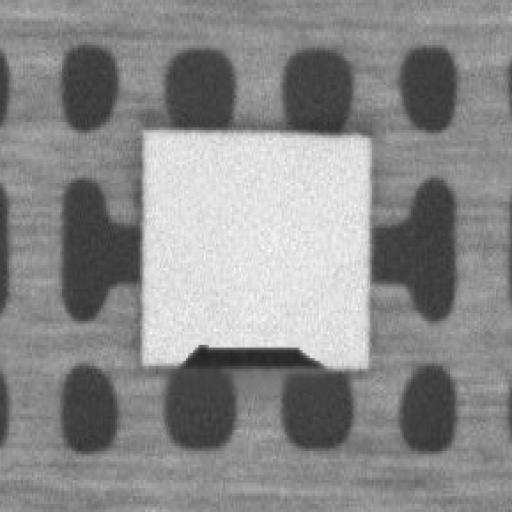DIE_BROKEN: (176, 337, 322, 366)
